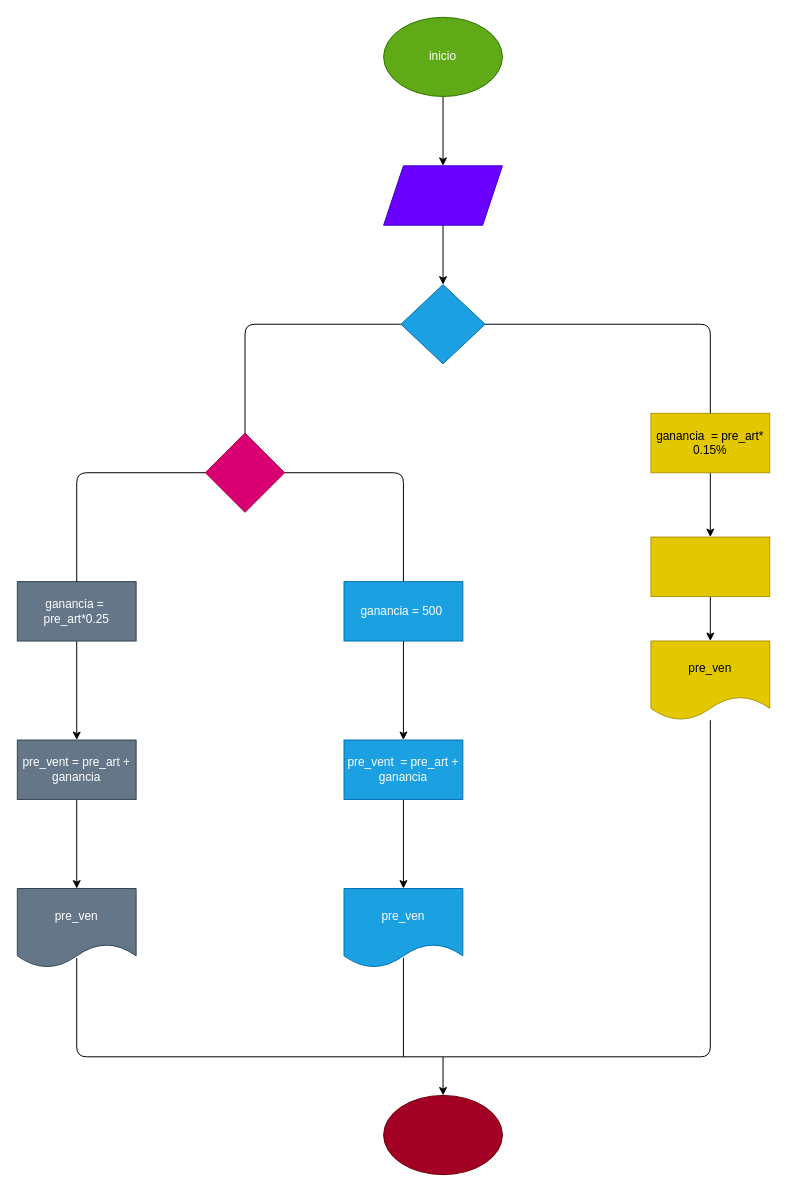
Some shapes in this 787 by 1192 pixel diagram are drawn without their labels. The centre of each missing label's shape, as x and y in pixels:
"fin" belongs at point (442, 1134).
"p<6000" belongs at point (244, 472).
"pre_ven=pre_art+ ganancia" belongs at point (710, 566).
"precio" belongs at point (442, 195).
"precio<3000" belongs at point (442, 324).
